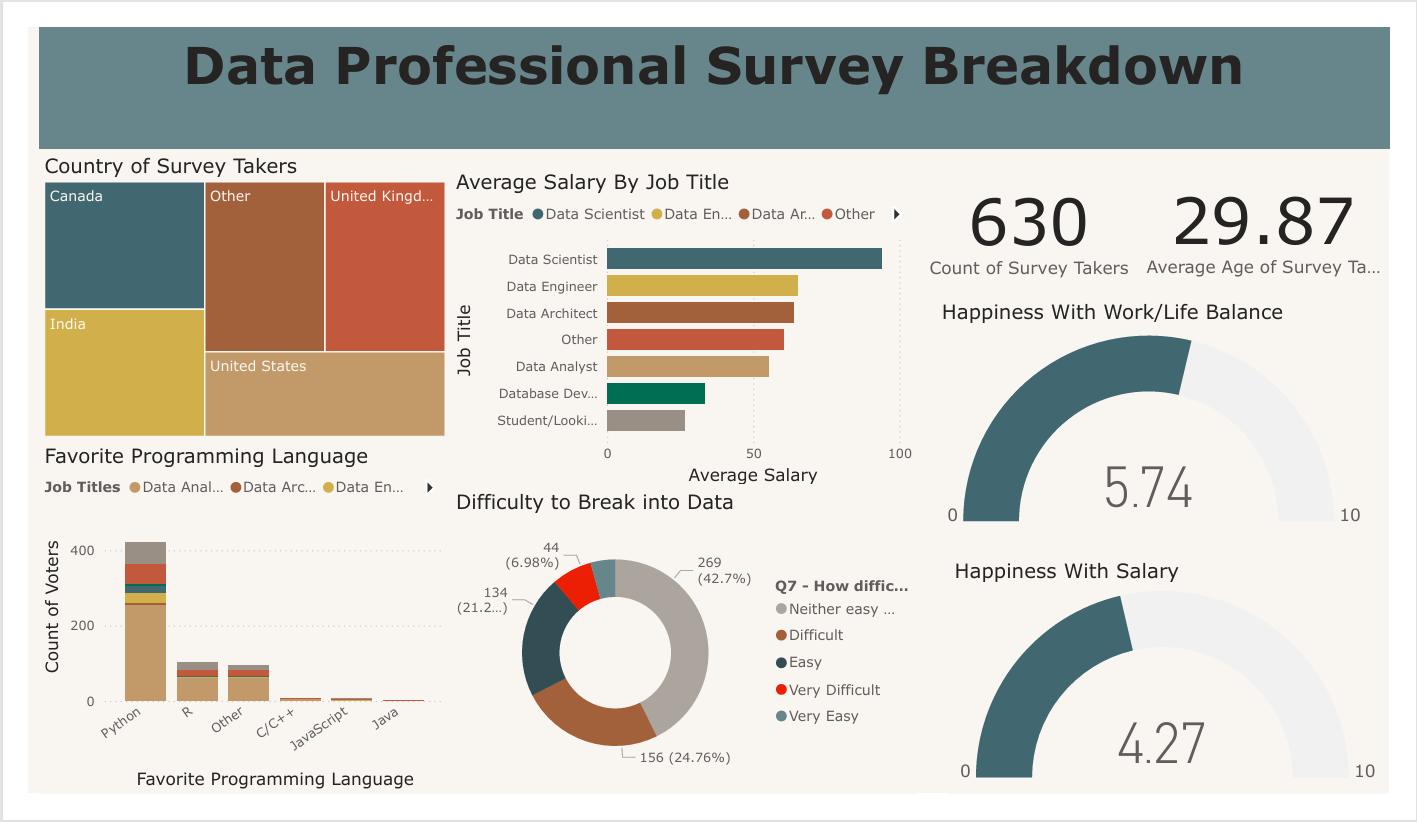

This screenshot's page, from the dashboard's own definition file:
{"tool":"powerbi","page":{"name":"Page 1","canvas":[1280,720],"ordinal":0},"visuals":[{"type":"textbox","box":[10.3,0,1270,113.6],"z":0},{"type":"card","fields":{"Values":["Count(Data Professional Survey.Unique ID)"]},"box":[835.5,121.2,210.7,134.2],"z":1000},{"type":"card","fields":{"Values":["Avg(Data Professional Survey.Q10 - Current Age)"]},"box":[1046.2,121.2,230.9,132.8],"z":2000},{"type":"barChart","title":"Average Salary By Job Title","fields":{"Category":["Data Professional Survey.Q1 - Which Title Best Fits your Current Role?.1"],"Y":["Avg(Data Professional Survey.Average Salary)"],"Series":["Data Professional Survey.Q1 - Which Title Best Fits your Current Role?.1"]},"box":[396.8,132.8,438.7,301.6],"z":3000},{"type":"columnChart","title":"Favorite Programming Language","fields":{"Category":["Data Professional Survey.Q5 - Favorite Programming Language.1"],"Y":["CountNonNull(Data Professional Survey.Unique ID)"],"Series":["Data Professional Survey.Q1 - Which Title Best Fits your Current Role?.1"]},"box":[10.1,389.6,386.7,330.5],"z":4000},{"type":"treemap","title":"Country of Survey Takers","fields":{"Group":["Data Professional Survey.Q11 - Which Country do you live in?.1"],"Values":["Count(Data Professional Survey.Q11 - Which Country do you live in?.1)"]},"box":[10.1,118.3,386.7,271.3],"z":5000},{"type":"gauge","title":"Happiness With Work/Life Balance","fields":{"Y":["Avg(Data Professional Survey.Q6 - How Happy are you in your Current Position with the following? (Work/Life Balance))"],"MinValue":["Min(Data Professional Survey.Q6 - How Happy are you in your Current Position with the following? (Work/Life Balance))1"],"MaxValue":["Max(Data Professional Survey.Q6 - How Happy are you in your Current Position with the following? (Work/Life Balance))2"]},"box":[854.3,255.4,408.4,226.6],"z":6000},{"type":"gauge","title":"Happiness With Salary","fields":{"Y":["Avg(Data Professional Survey.Q6 - How Happy are you in your Current Position with the following? (Salary))"],"MinValue":["Min(Data Professional Survey.Q6 - How Happy are you in your Current Position with the following? (Salary))"],"MaxValue":["Max(Data Professional Survey.Q6 - How Happy are you in your Current Position with the following? (Salary))"]},"box":[865.8,497.9,411.3,222.2],"z":7000},{"type":"donutChart","title":"Difficulty to Break into Data","fields":{"Category":["Data Professional Survey.Q7 - How difficult was it for you to break into Data?"],"Y":["CountNonNull(Data Professional Survey.Q7 - How difficult was it for you to break into Data?)"]},"box":[396.8,434.4,438.7,285.7],"z":8000}]}

Visuals, with their boxes on the page's 1280x720 design canvas (x1, y1, x2, y2). These are canvas units, not pixel positions in the 1417x822 screenshot, which may show the page scaled, cropped or inside an application window:
textbox: 10 0 1280 114
card - Count(Data Professional Survey.Unique ID): 836 121 1046 255
card - Avg(Data Professional Survey.Q10 - Current Age): 1046 121 1277 254
"Average Salary By Job Title" barChart: 397 133 836 434
"Favorite Programming Language" columnChart: 10 390 397 720
"Country of Survey Takers" treemap: 10 118 397 390
"Happiness With Work/Life Balance" gauge: 854 255 1263 482
"Happiness With Salary" gauge: 866 498 1277 720
"Difficulty to Break into Data" donutChart: 397 434 836 720
